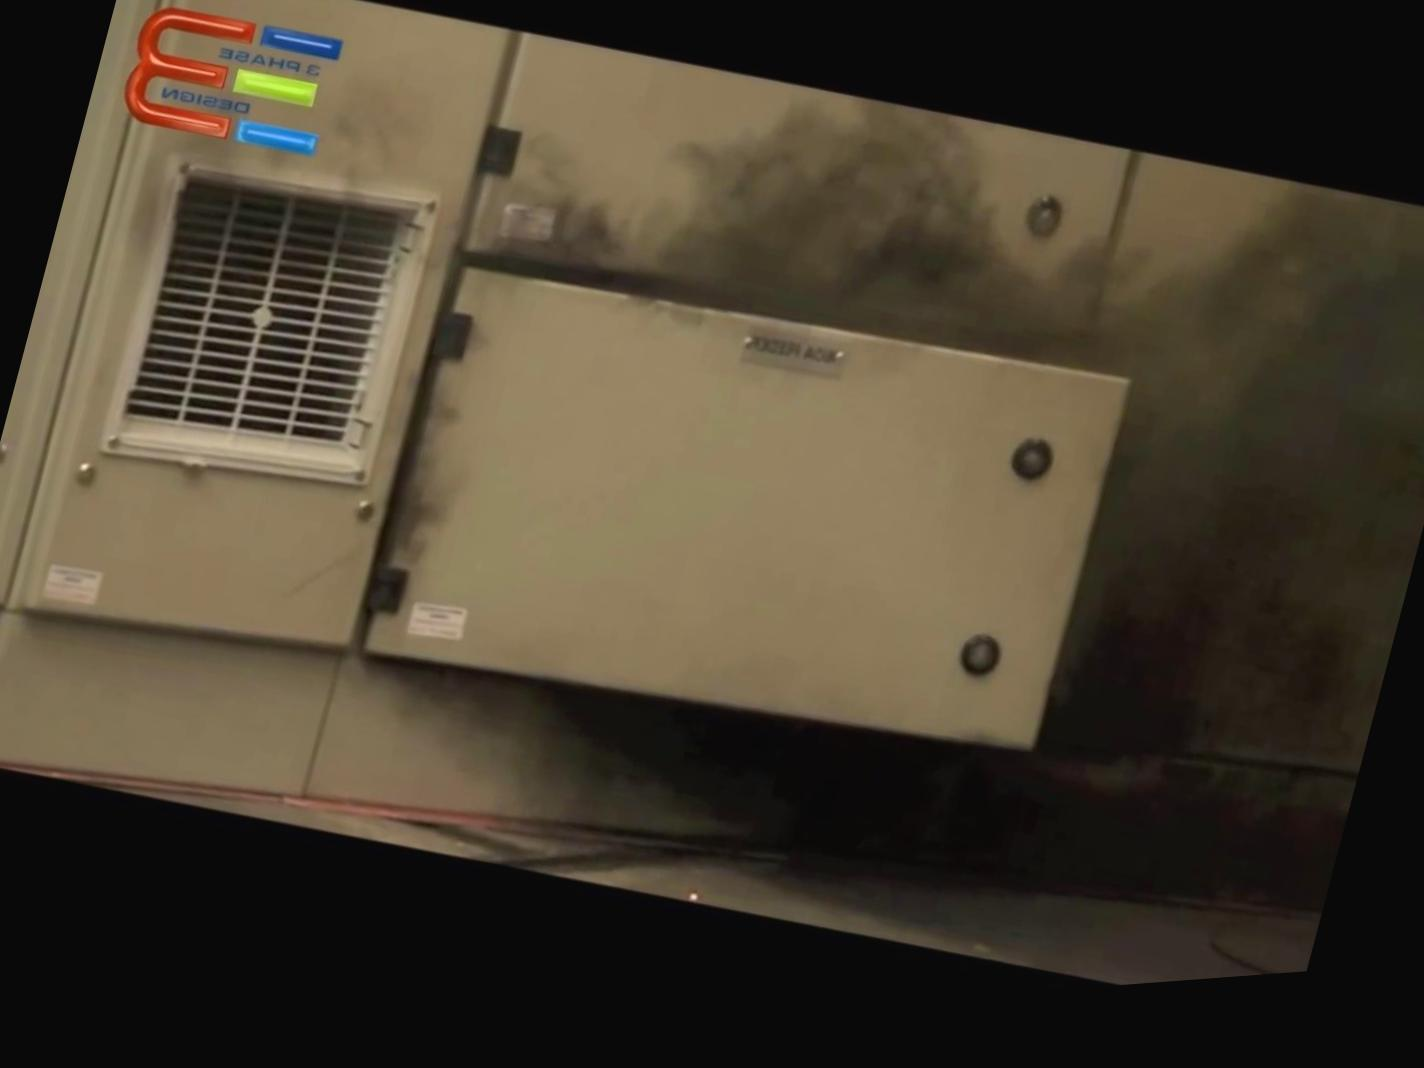smoke: (505, 82, 1317, 866)
